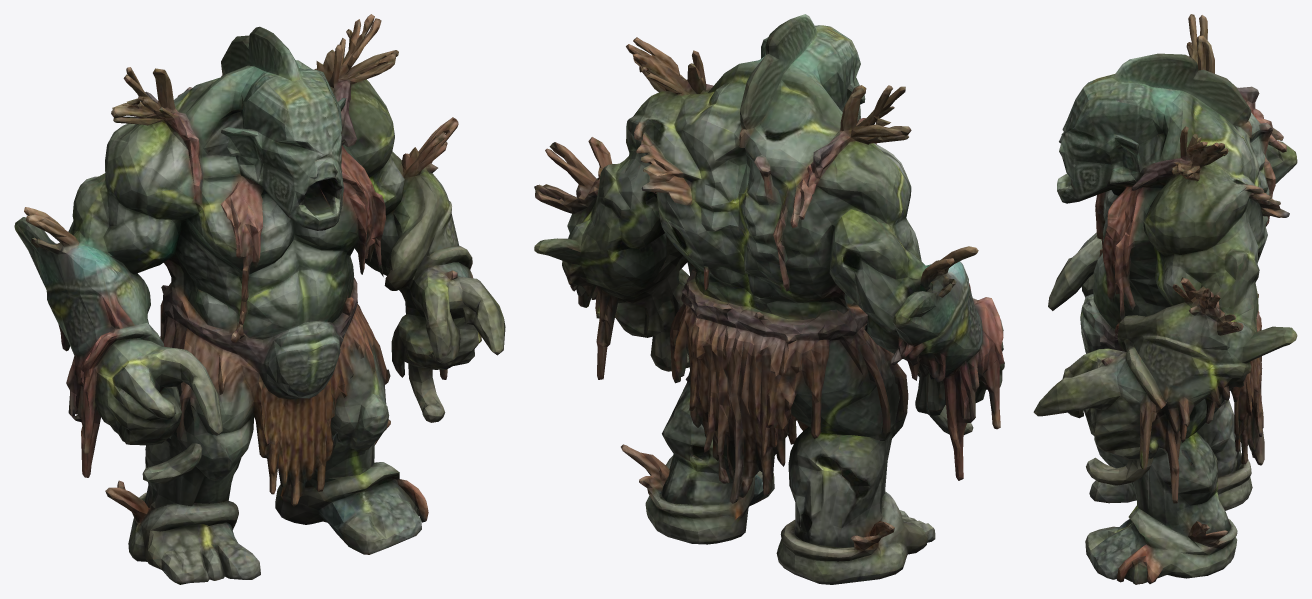
The model's file is drownedShrineGuardian.glb.
The picture shows the model from 3 angles, left to right: view 1: azimuth 30°, elevation 25°; view 2: azimuth 150°, elevation 25°; view 3: azimuth 270°, elevation 25°; orthographic projection. The views are drawn at different scales.
Visible parts, largest first — view 1: world; view 2: world; view 3: world.
Part boxes in pixels (box(x1,y1,x2,y2)): world: box(14, 14, 505, 584); world: box(534, 14, 1004, 584); world: box(1033, 14, 1297, 584).
Size of the model in its own units: 0.8762 by 0.989 by 0.4989.
Materials: 1 (1 with a texture image).
